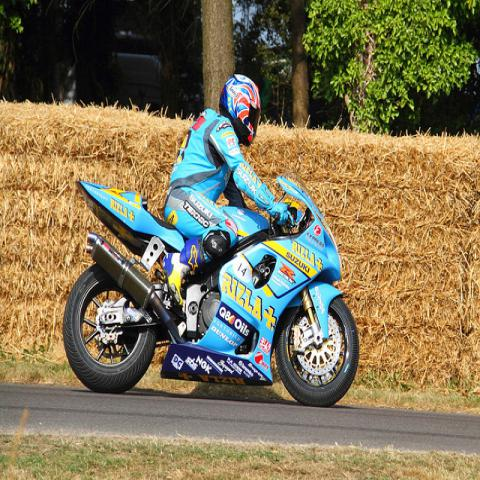car: (101, 29, 160, 95)
motorcycle: (62, 176, 360, 405)
